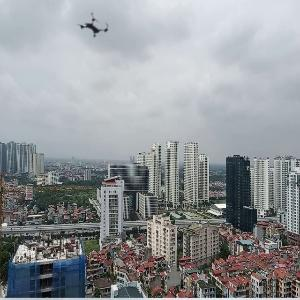drone: (70, 2, 120, 52)
